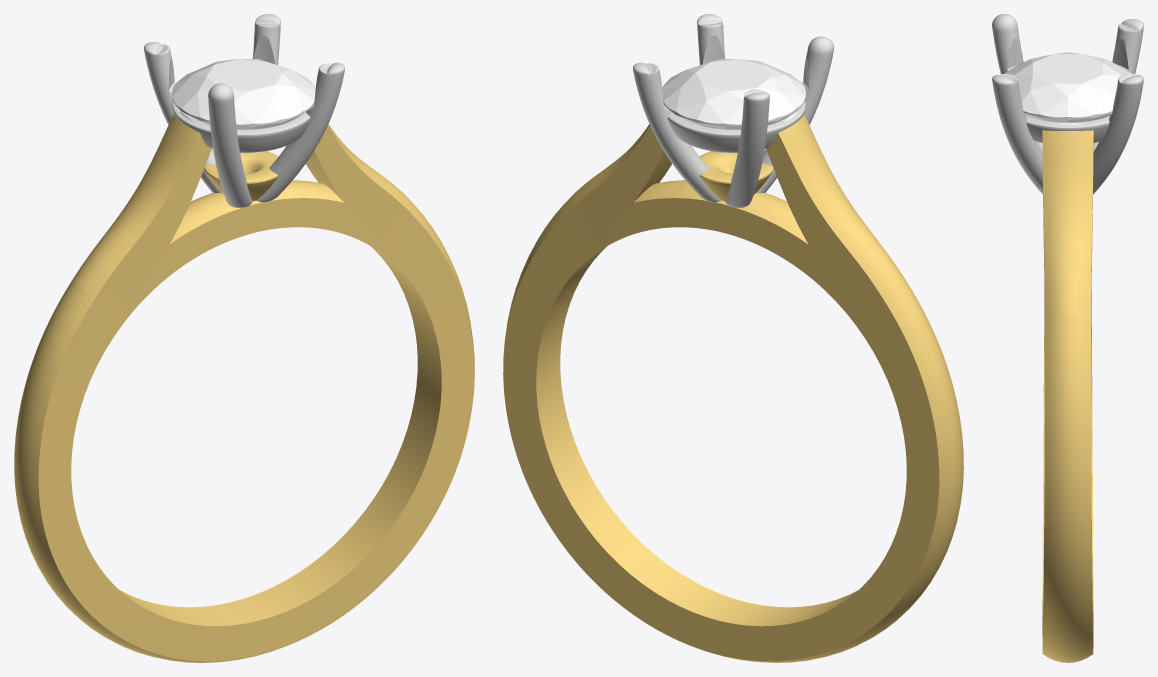
Rendered from alexpractice8_webgi.glb.
3 renders of one model, left to right at view 1: azimuth 30°, elevation 25°; view 2: azimuth 150°, elevation 25°; view 3: azimuth 270°, elevation 25°, orthographic.
Visible parts, largest first — view 1: Cam_Nye003, Cam_Nye007, Cam_Nye009, Cam_Nye008; view 2: Cam_Nye003, Cam_Nye007, Cam_Nye009, Cam_Nye008; view 3: Cam_Nye003, Cam_Nye007, Cam_Nye009, Cam_Nye008.
Part boxes in pixels (left/top/right/bottom): Cam_Nye003: left=14, top=114, right=474, bottom=662; Cam_Nye007: left=144, top=14, right=344, bottom=207; Cam_Nye009: left=172, top=59, right=315, bottom=129; Cam_Nye008: left=172, top=101, right=310, bottom=152; Cam_Nye003: left=503, top=114, right=963, bottom=662; Cam_Nye007: left=633, top=14, right=834, bottom=207; Cam_Nye009: left=662, top=59, right=805, bottom=129; Cam_Nye008: left=667, top=101, right=805, bottom=152; Cam_Nye003: left=1041, top=130, right=1094, bottom=662; Cam_Nye007: left=992, top=14, right=1143, bottom=194; Cam_Nye009: left=1004, top=52, right=1131, bottom=122; Cam_Nye008: left=1026, top=116, right=1109, bottom=142.
Size of the model in its own units: 2.42 by 3.1 by 0.716.
